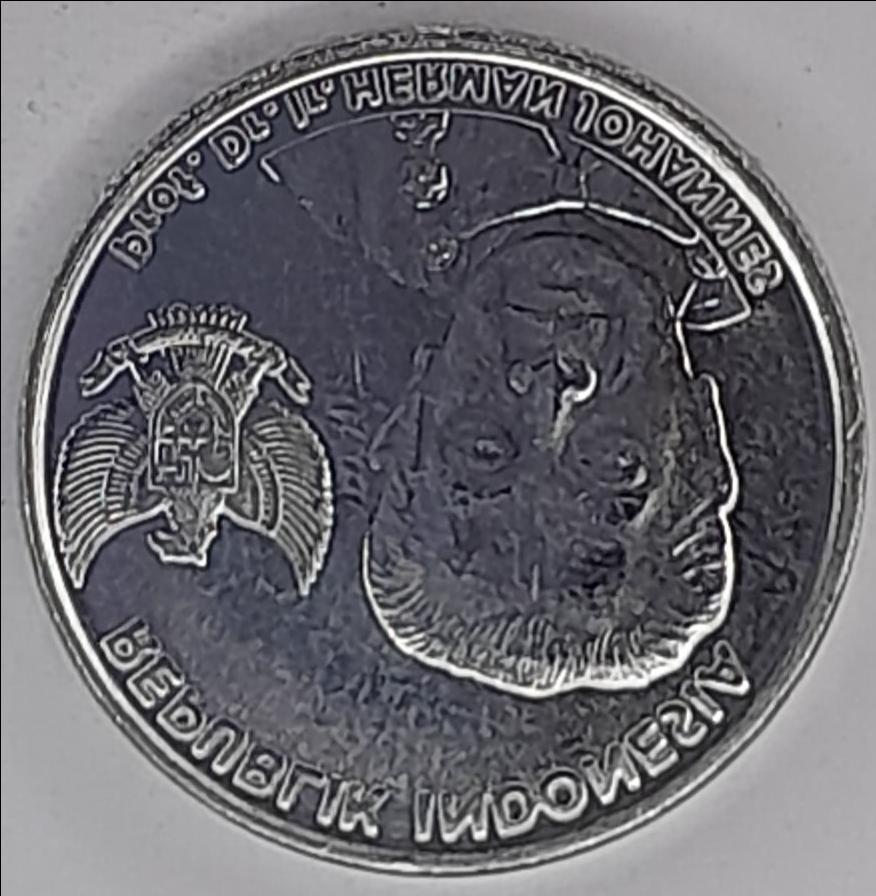coin_100_e2016: (14, 17, 873, 877)
